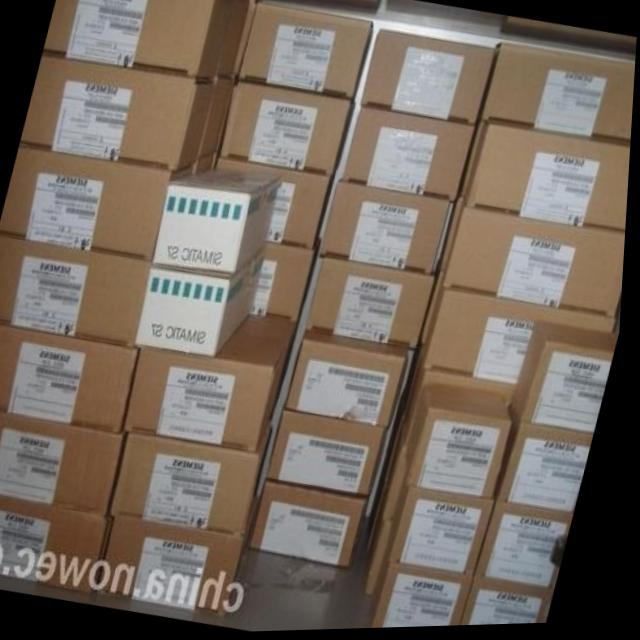box: (129, 312, 303, 452), (444, 192, 628, 320), (2, 145, 199, 262), (22, 56, 219, 171), (425, 273, 623, 387), (465, 120, 633, 236), (115, 427, 277, 540), (0, 233, 156, 348), (0, 324, 145, 433), (479, 46, 636, 145), (139, 245, 271, 362), (45, 0, 228, 80), (321, 177, 460, 278), (106, 518, 251, 612), (240, 1, 373, 103), (220, 80, 359, 177), (0, 407, 129, 511), (344, 105, 479, 204), (155, 169, 282, 274), (308, 256, 441, 353), (289, 331, 413, 434), (362, 31, 495, 124), (409, 387, 516, 502), (407, 353, 519, 459), (515, 326, 619, 440), (0, 493, 115, 592), (501, 406, 600, 517), (219, 156, 337, 248), (255, 478, 374, 569), (393, 483, 501, 579), (275, 411, 390, 496), (481, 500, 579, 596), (379, 546, 481, 630), (374, 424, 411, 598), (256, 245, 321, 324), (466, 578, 560, 628), (216, 0, 257, 79), (201, 78, 239, 158), (197, 153, 219, 176)
